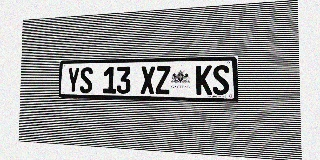1: (103, 67, 116, 93)
3: (116, 66, 130, 94)
K: (196, 65, 212, 95)
S: (212, 65, 229, 95), (80, 67, 93, 93)
X: (140, 66, 155, 94)
Y: (67, 67, 80, 93)
Z: (155, 66, 170, 94)
